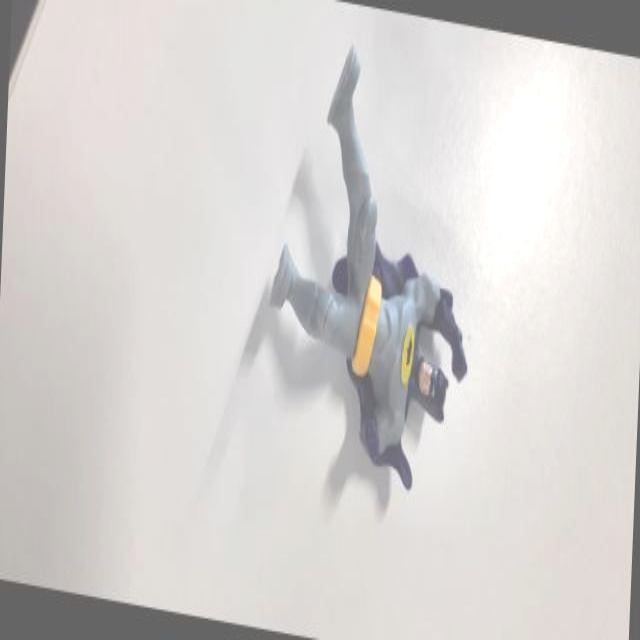Batman: (259, 27, 480, 502)
